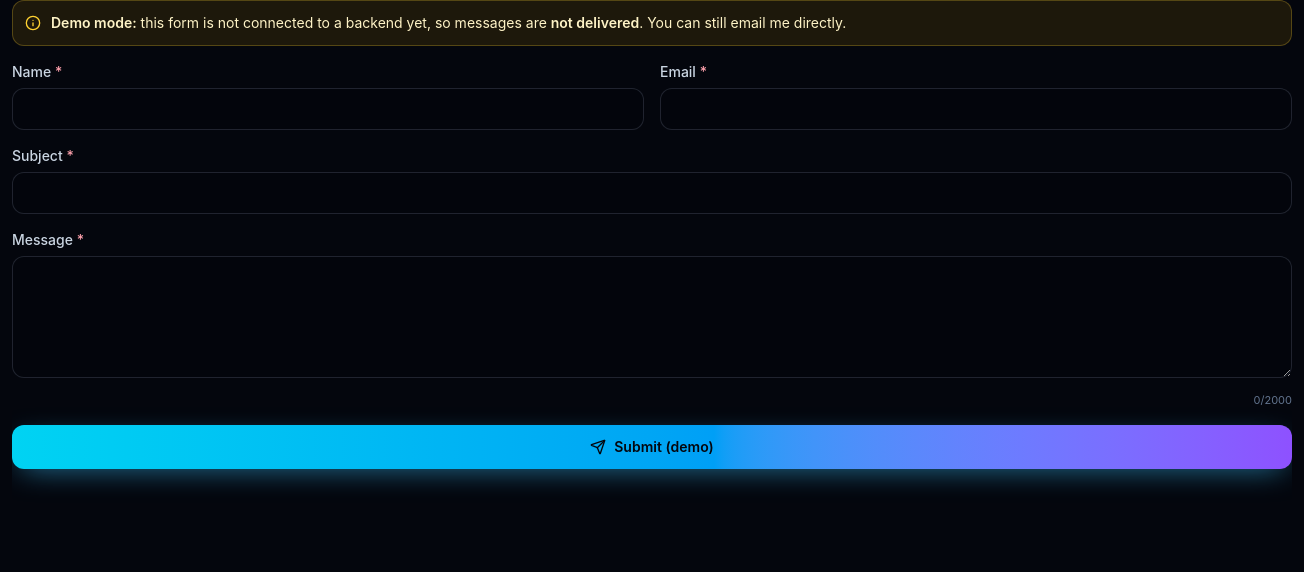
ContactForm › shows validation errors when submitted empty
Step 1. Click the button "Submit (demo)" → (652, 446), box [12,424,1292,468]
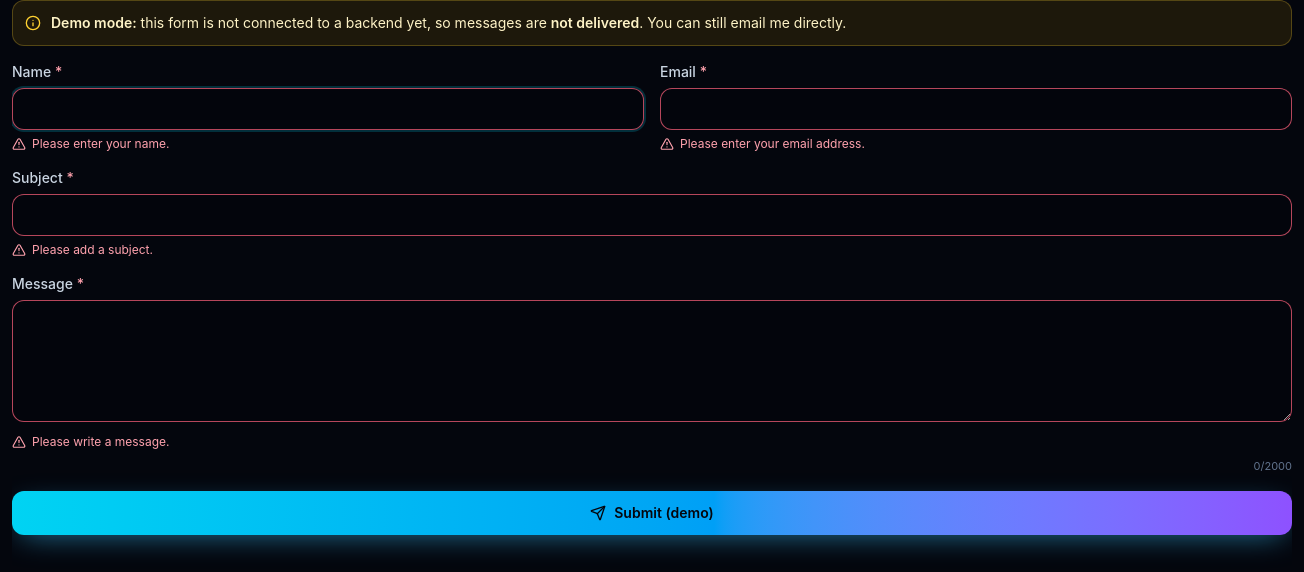
Now the text "Please enter your name." is shown, box [12,136,169,151]
Now the text "Please enter your email address." is shown, box [660,136,865,151]
